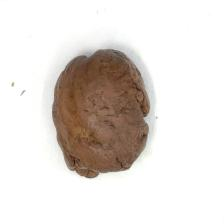NG: (60, 150, 137, 180), (126, 66, 152, 149), (68, 50, 111, 62)
